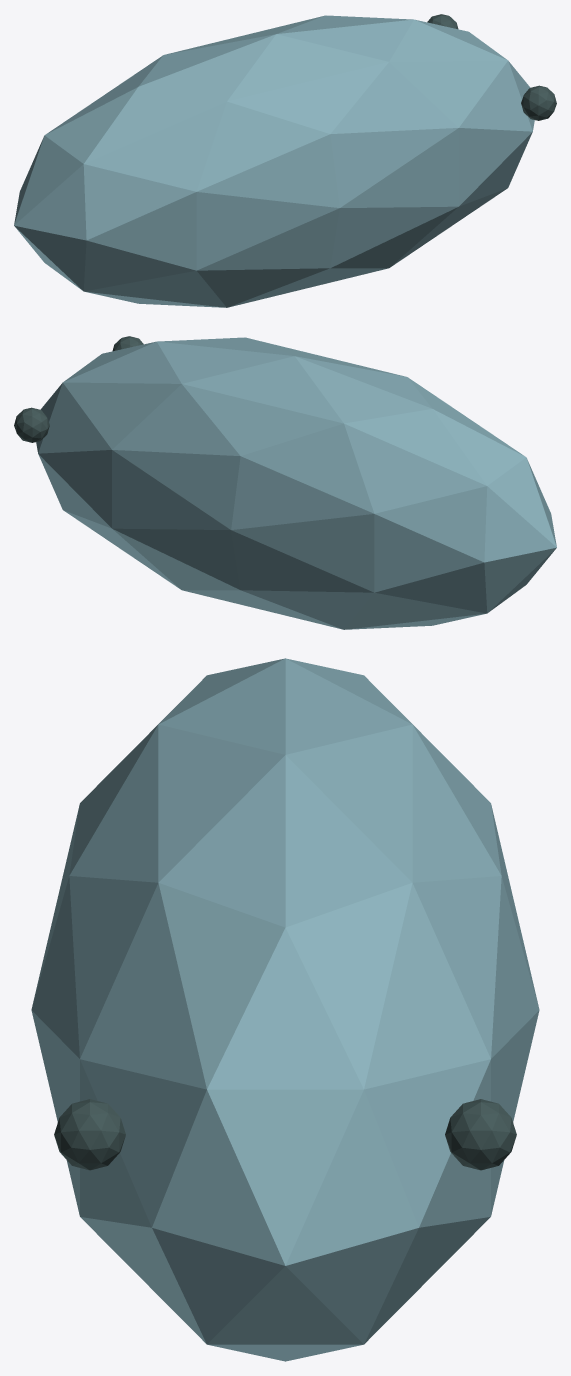
Rendered from fish-eco.glb.
The picture shows the model from 3 angles, top to bottom: view 1: azimuth 30°, elevation 25°; view 2: azimuth 150°, elevation 25°; view 3: azimuth 270°, elevation 25°; orthographic projection. The views are drawn at different scales.
Parts seen in each view (by area): view 1: body, eye2; view 2: body, eye; view 3: body, eye, eye2.
Boxes of the visible parts, box(x1,y1,x2,y2) form: body: box(14, 15, 534, 307); eye2: box(521, 85, 556, 120); body: box(36, 337, 556, 629); eye: box(14, 407, 49, 442); body: box(31, 658, 539, 1361); eye: box(445, 1099, 516, 1170); eye2: box(54, 1099, 125, 1170).
Size of the model in its own units: 1.18 by 0.5472 by 0.494.
